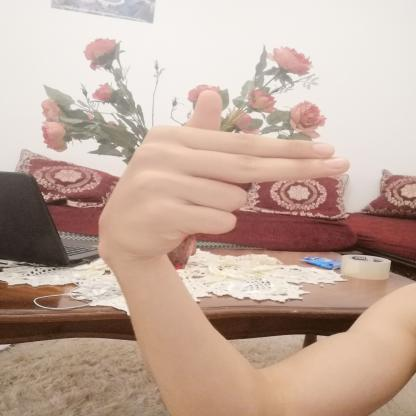GHAYN: (82, 83, 367, 276)
